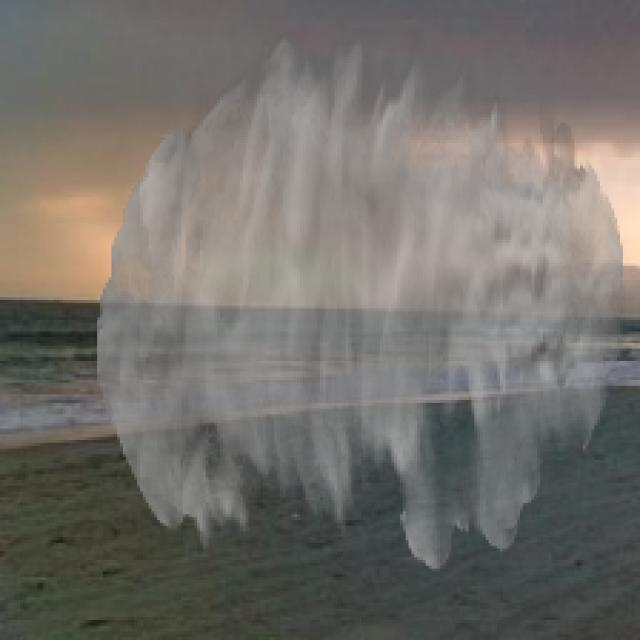smoke: (97, 29, 626, 572)
